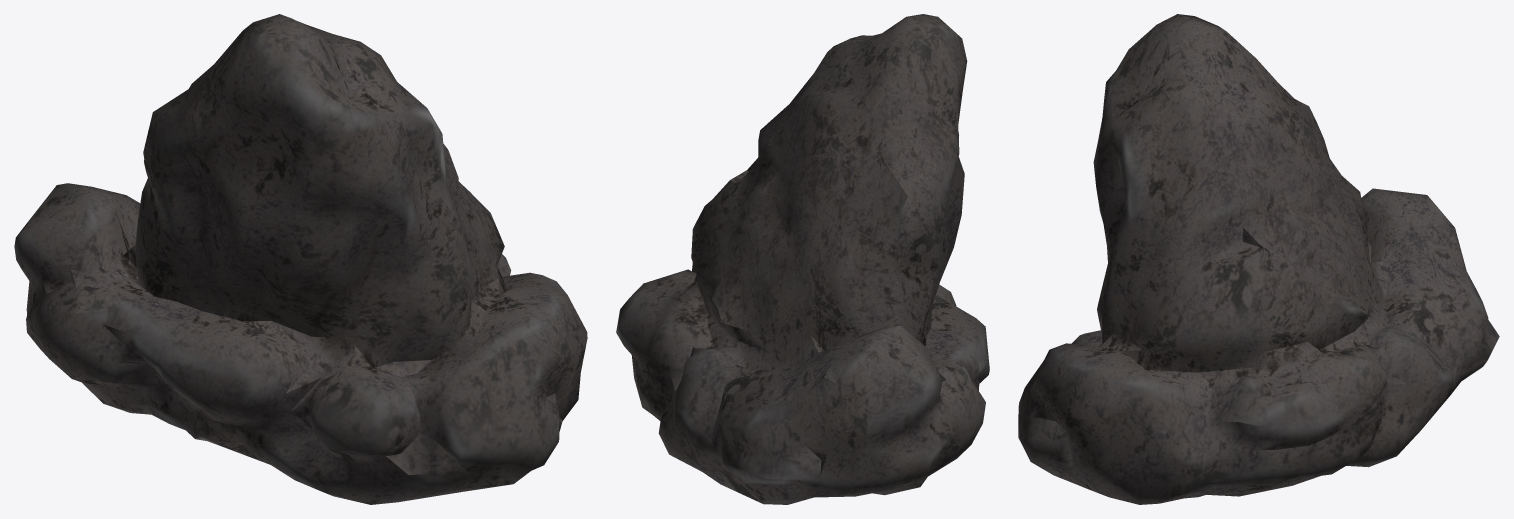
The model's file is rock1.glb.
3 views of the same model, side by side, from view 1: azimuth 30°, elevation 25°; view 2: azimuth 150°, elevation 25°; view 3: azimuth 270°, elevation 25° (orthographic). The views are drawn at different scales.
Visible parts, largest first — view 1: Object_2; view 2: Object_2; view 3: Object_2.
Boxes of the visible parts, x1=… form: Object_2: x1=14, y1=14, x2=587, y2=504; Object_2: x1=616, y1=14, x2=989, y2=504; Object_2: x1=1018, y1=14, x2=1499, y2=504.
Bounding box in the file's own units: 2.19 × 2.43 × 2.49.
Materials: 1 (1 with a texture image).
